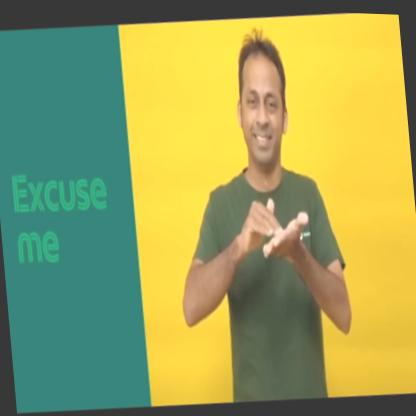ExcuseMe: (160, 21, 359, 402)
